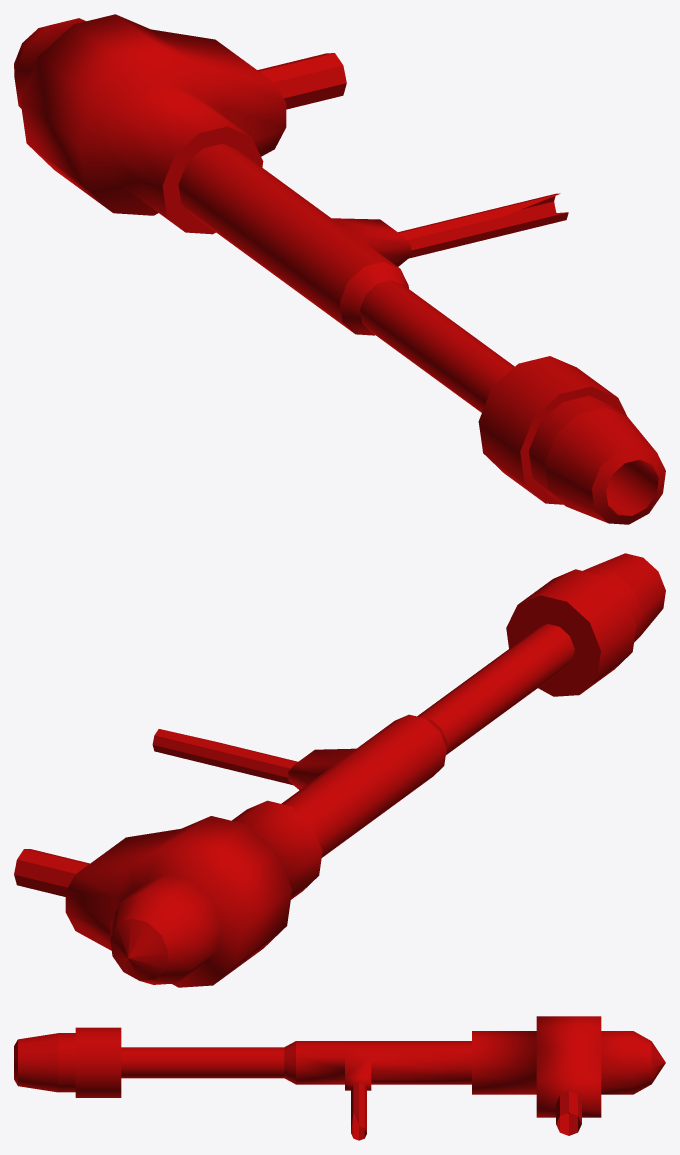
The model's file is Gun_R.fbx.
3 renders of one model, top to bottom at view 1: azimuth 30°, elevation 25°; view 2: azimuth 150°, elevation 25°; view 3: azimuth 270°, elevation 25°, orthographic. The views are drawn at different scales.
Visible parts, largest first — view 1: Tube031, Tube031.004; view 2: Tube031, Tube031.004; view 3: Tube031, Tube031.004.
Boxes of the visible parts, <box> form: Tube031: <box>14,14,665,524</box>; Tube031.004: <box>257,53,568,258</box>; Tube031: <box>65,553,665,987</box>; Tube031.004: <box>14,729,297,896</box>; Tube031: <box>14,1016,665,1117</box>; Tube031.004: <box>351,1082,581,1140</box>.
Size of the model in its own units: 1.42 by 0.6527 by 4.62.
